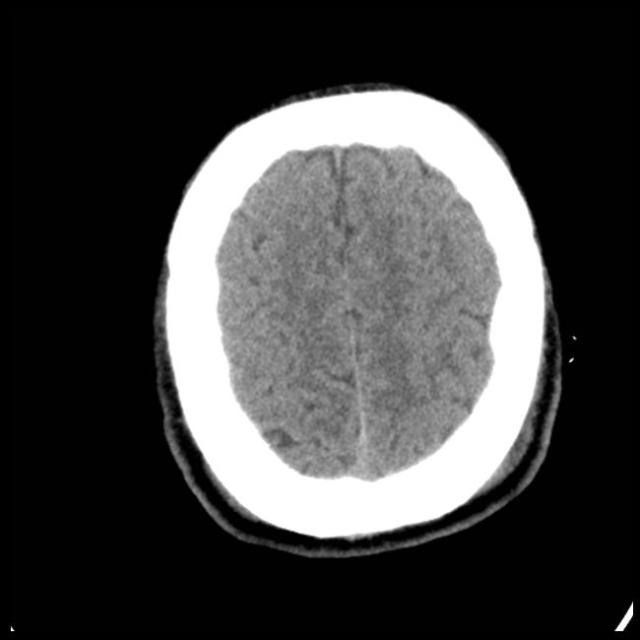lesion: (150, 80, 566, 557)
